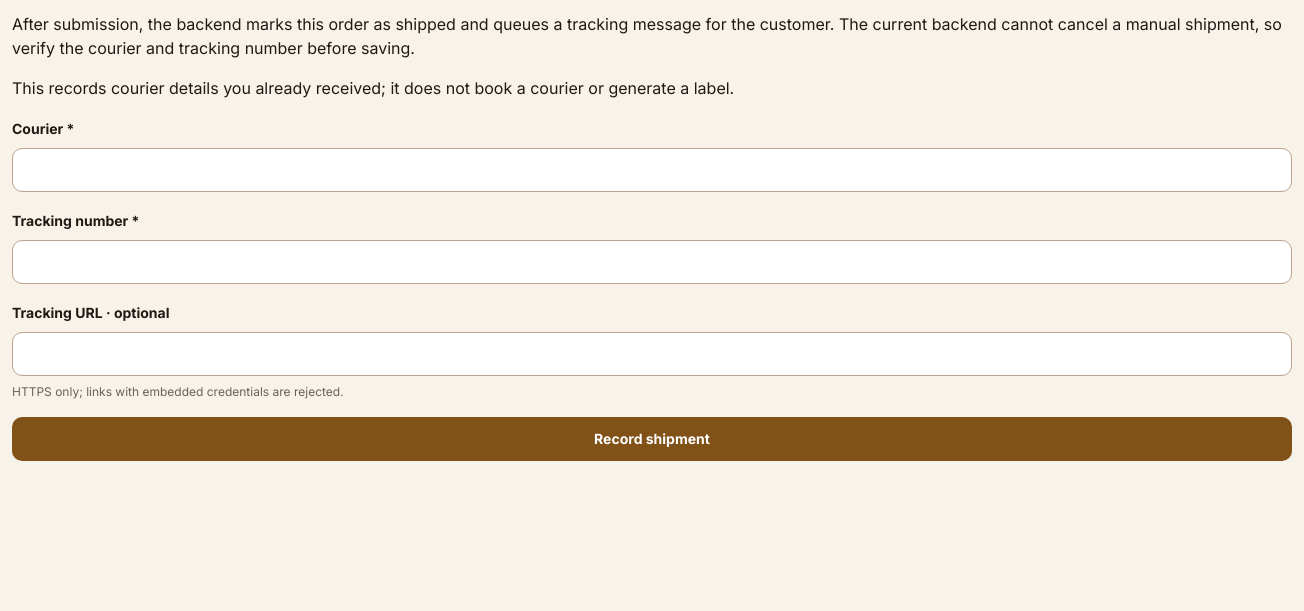
Test: manual shipment workflow › requires two authoritative reads and explicit review before retrying an ambiguous create
The image size is (1304, 611).
Type "Blue Dart" into the field labelled "Courier".
click(652, 170); type("Blue Dart")  # box top-left (12, 148), bottom-right (1292, 192)
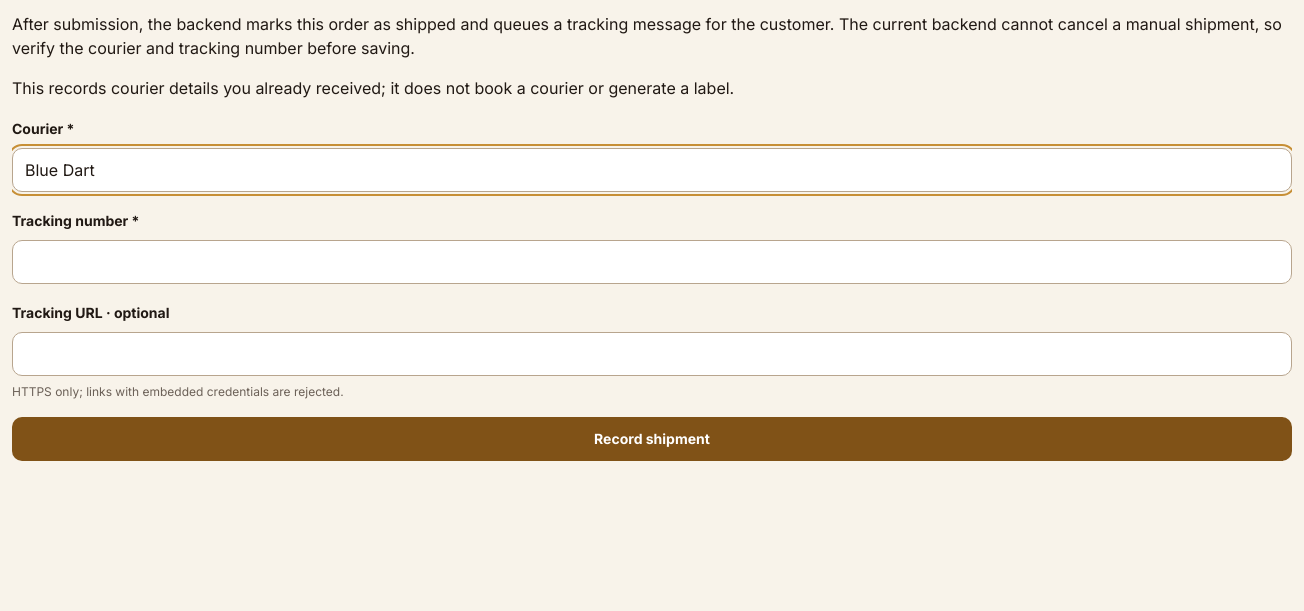
Type "BD12345" into the field labelled "Tracking number".
click(652, 262); type("BD12345")  # box top-left (12, 240), bottom-right (1292, 284)
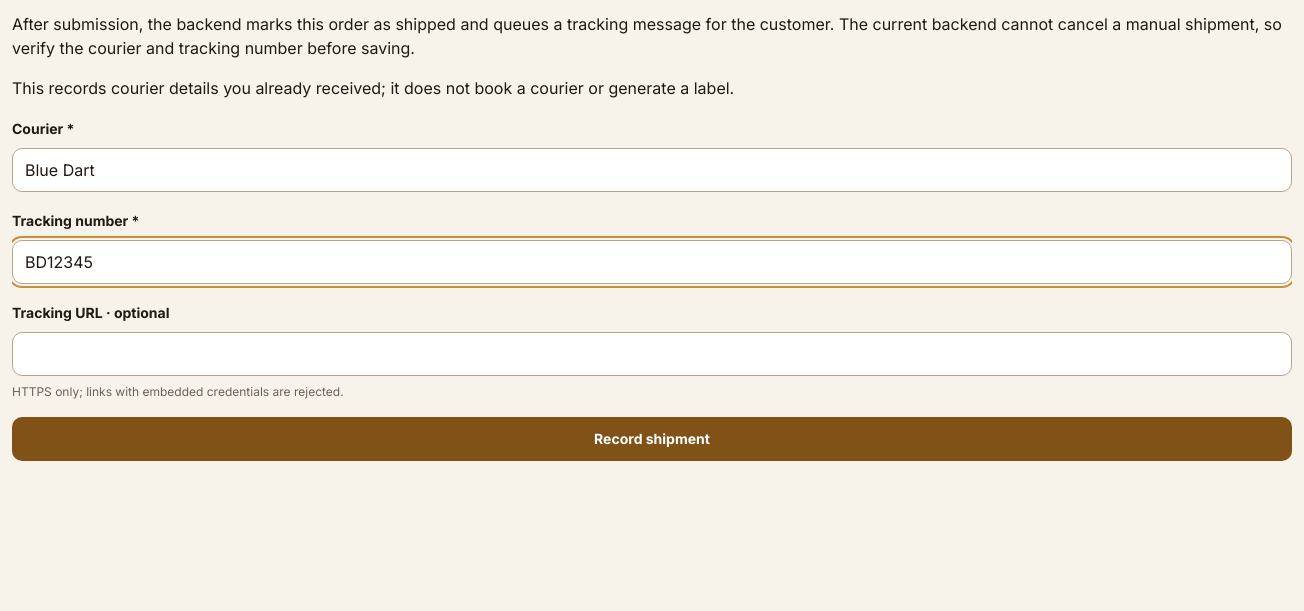
Click the button "Record shipment".
click(652, 439)  # box top-left (12, 417), bottom-right (1292, 461)
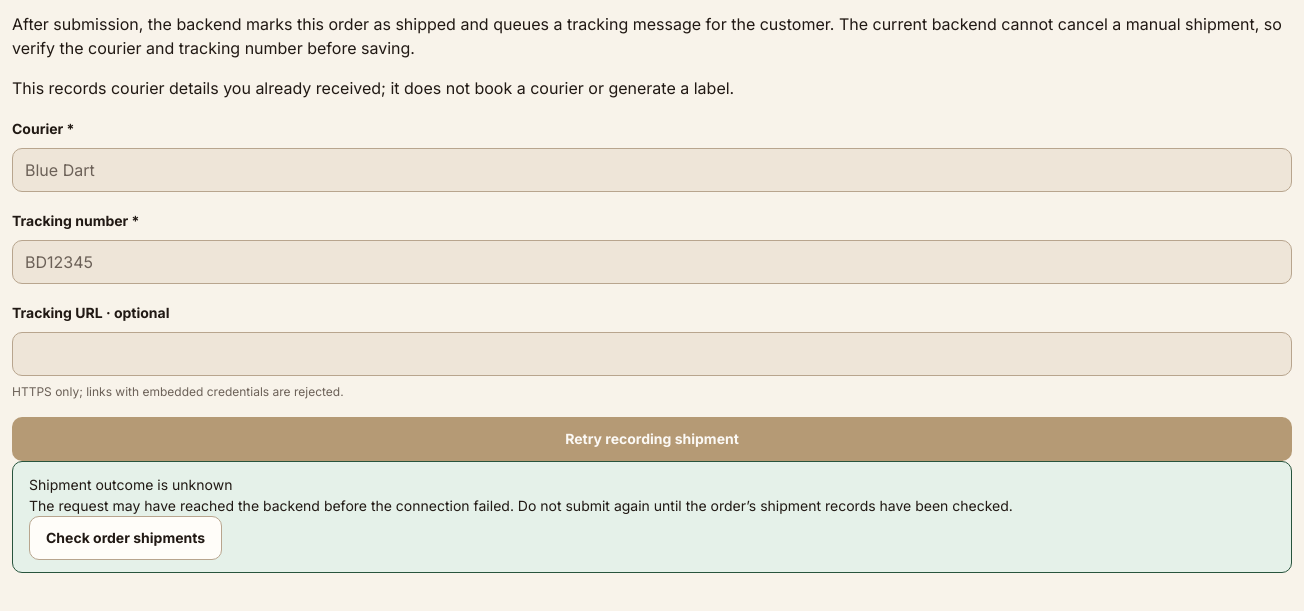
Expected: the heading "Shipment outcome is unknown" is shown, top-left (29, 476), bottom-right (232, 493)
Expected: the button "Retry recording shipment" is disabled, top-left (12, 417), bottom-right (1292, 461)
Click the button "Check order shipments".
click(126, 538)  # box top-left (29, 516), bottom-right (222, 560)
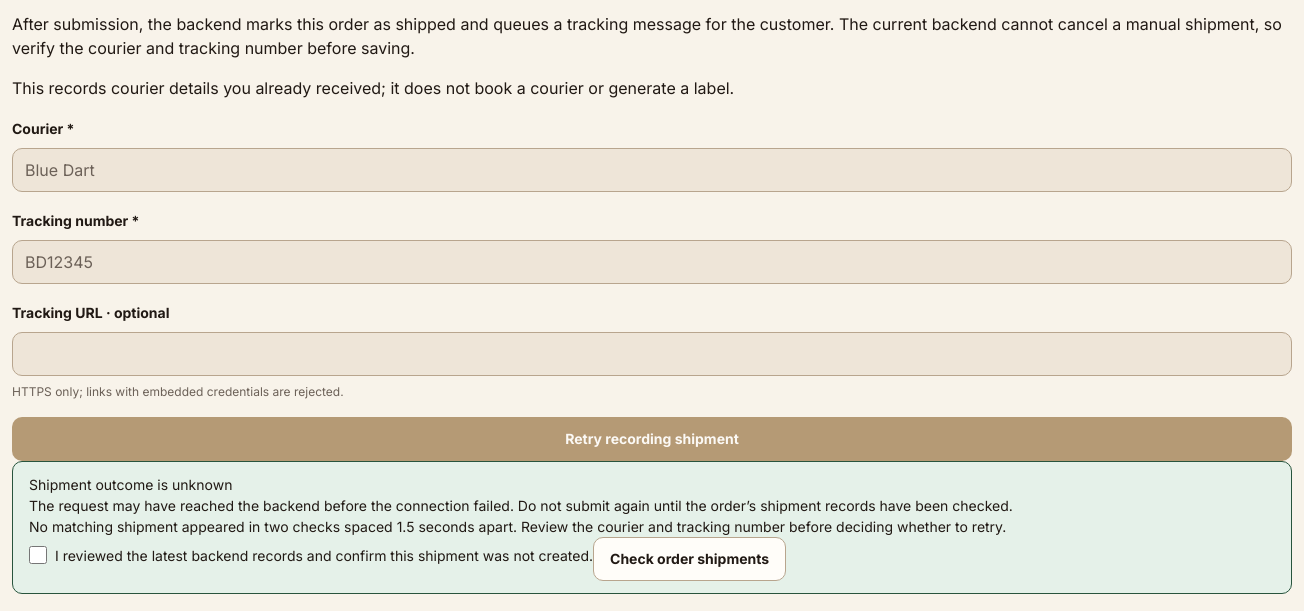
Expected: the button "Retry recording shipment" is disabled, top-left (12, 417), bottom-right (1292, 461)
Expected: the text "No matching shipment appeared in two checks" is shown, top-left (29, 518), bottom-right (1006, 535)
Click the checkbox labelled "I reviewed the latest backend records".
click(38, 555)  # box top-left (29, 546), bottom-right (47, 564)
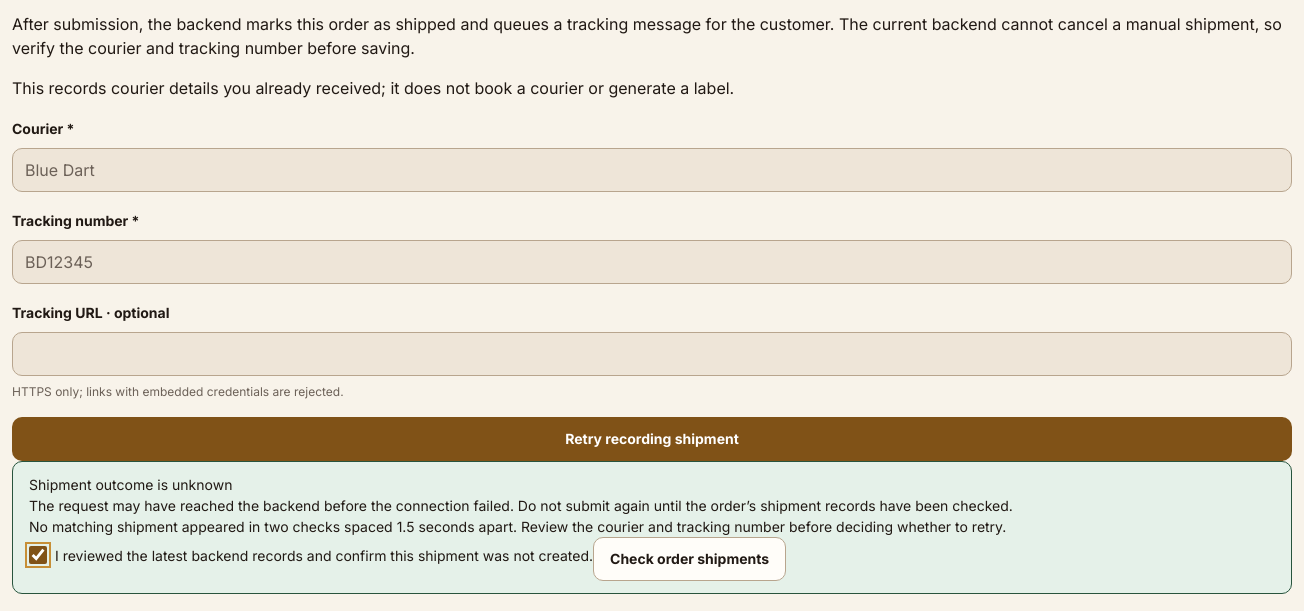
Expected: the button "Retry recording shipment" is enabled, top-left (12, 417), bottom-right (1292, 461)
